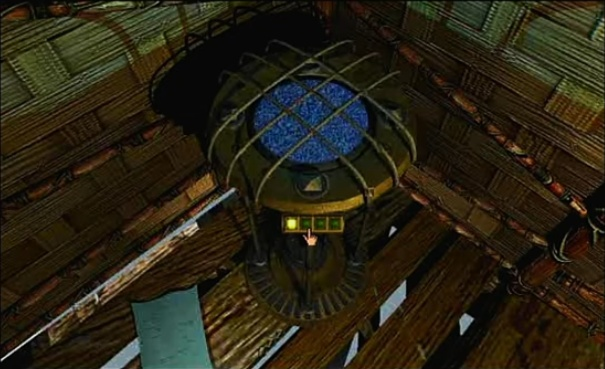Pointer: (300, 226, 322, 248)
